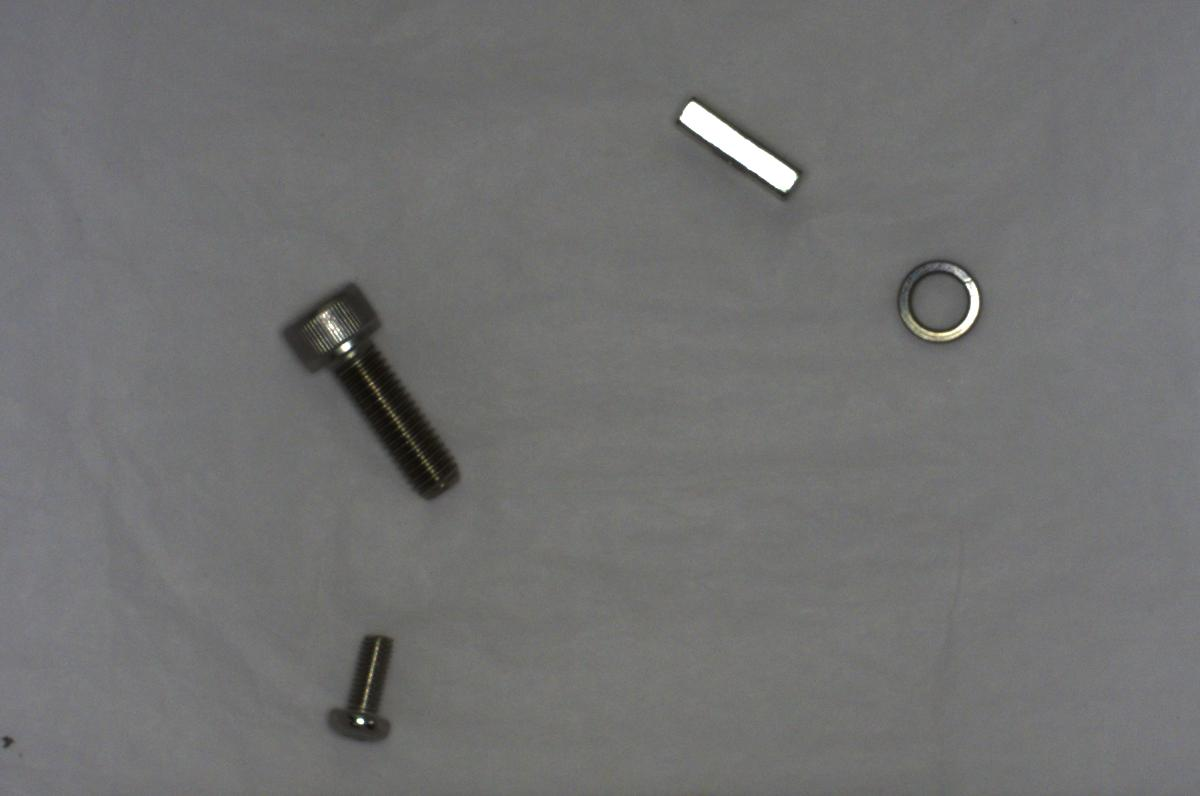Hexagon screw: (271, 278, 474, 510)
Rectangular nut: (670, 95, 800, 198)
Round head screw: (317, 625, 404, 745)
Spring washer: (884, 249, 994, 360)
